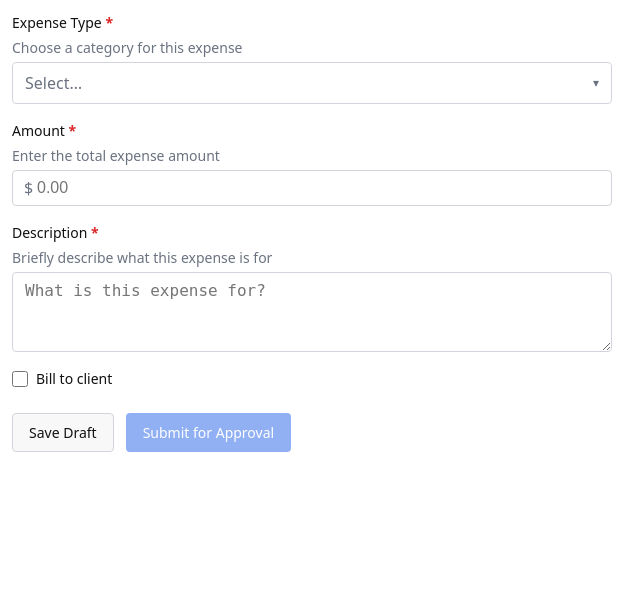
Test case: RequestForm › shows travel fields when type is Travel
Click the button named "expense type" at (54, 83), box [12, 62, 612, 104]
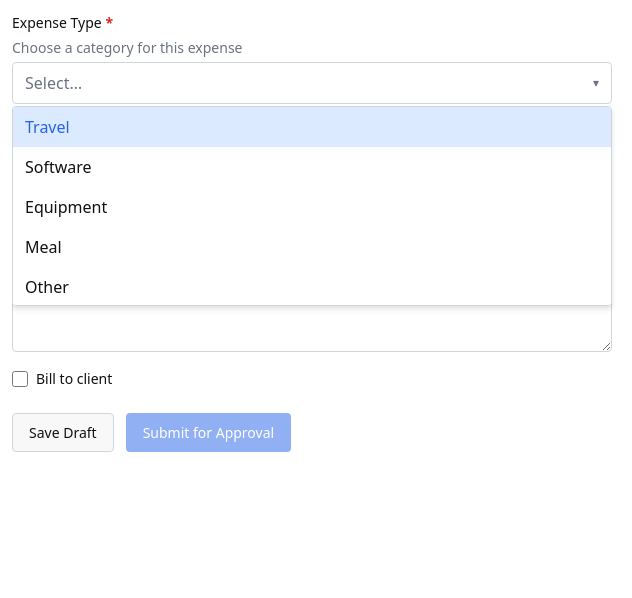
Click the option "Travel" at (47, 127), box [13, 107, 611, 147]
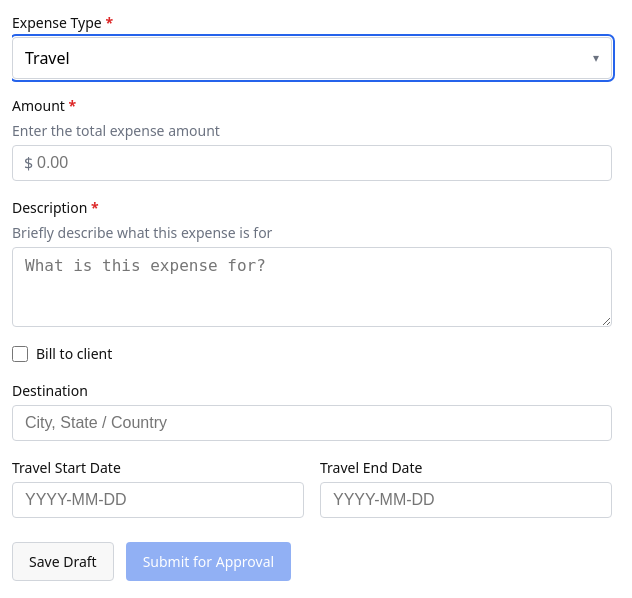
Expected: the field labelled "Destination" is shown, [12, 405, 612, 441]
